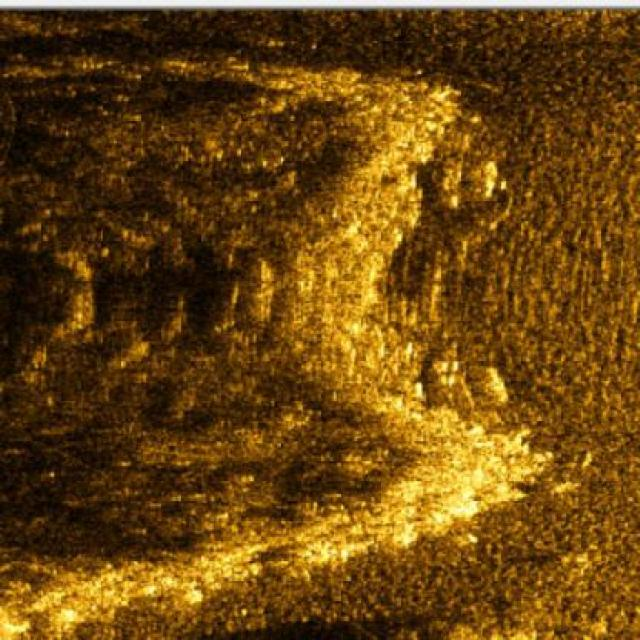bedrock group: (2, 42, 555, 640)
